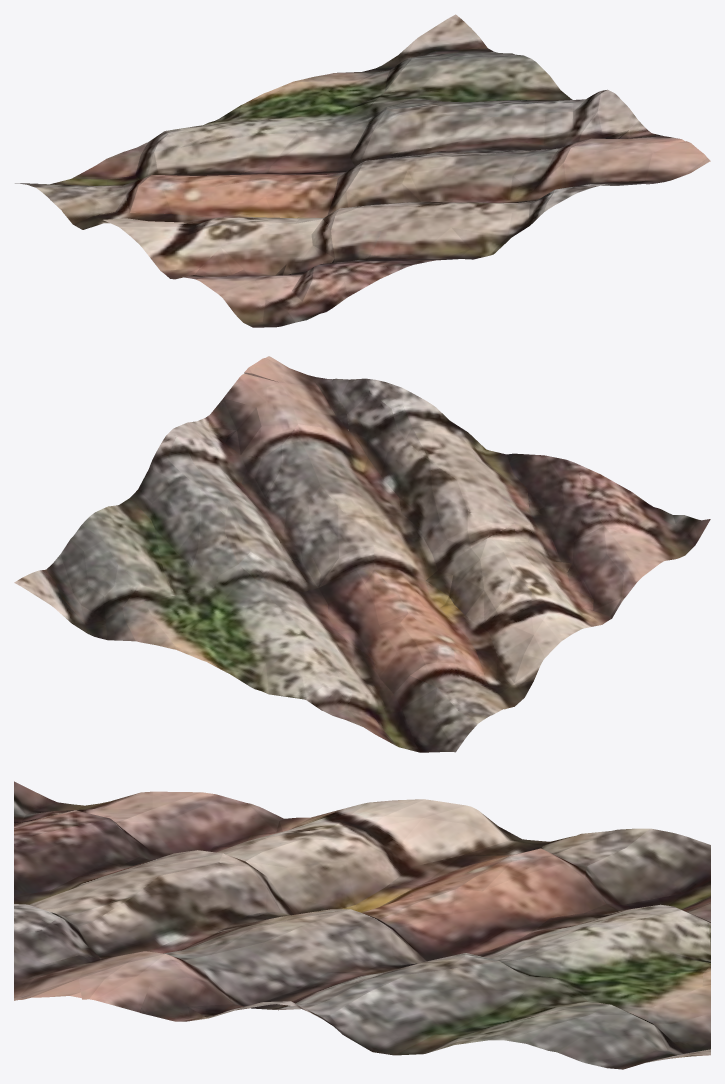
The picture shows the model from 3 angles, top to bottom: view 1: azimuth 30°, elevation 25°; view 2: azimuth 150°, elevation 25°; view 3: azimuth 270°, elevation 25°; orthographic projection. The views are drawn at different scales.
Size of the model in its own units: 0.8374 by 0.2098 by 0.8373.
3 materials, 3 textured.
